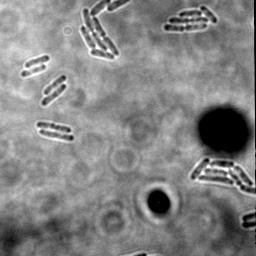Dividing: (36, 119, 73, 135)
Microcolony: (79, 1, 130, 60), (190, 157, 256, 196), (162, 5, 219, 33)
Rod: (41, 83, 67, 108), (36, 127, 75, 143), (42, 73, 67, 97), (19, 63, 47, 78), (24, 54, 51, 68)
